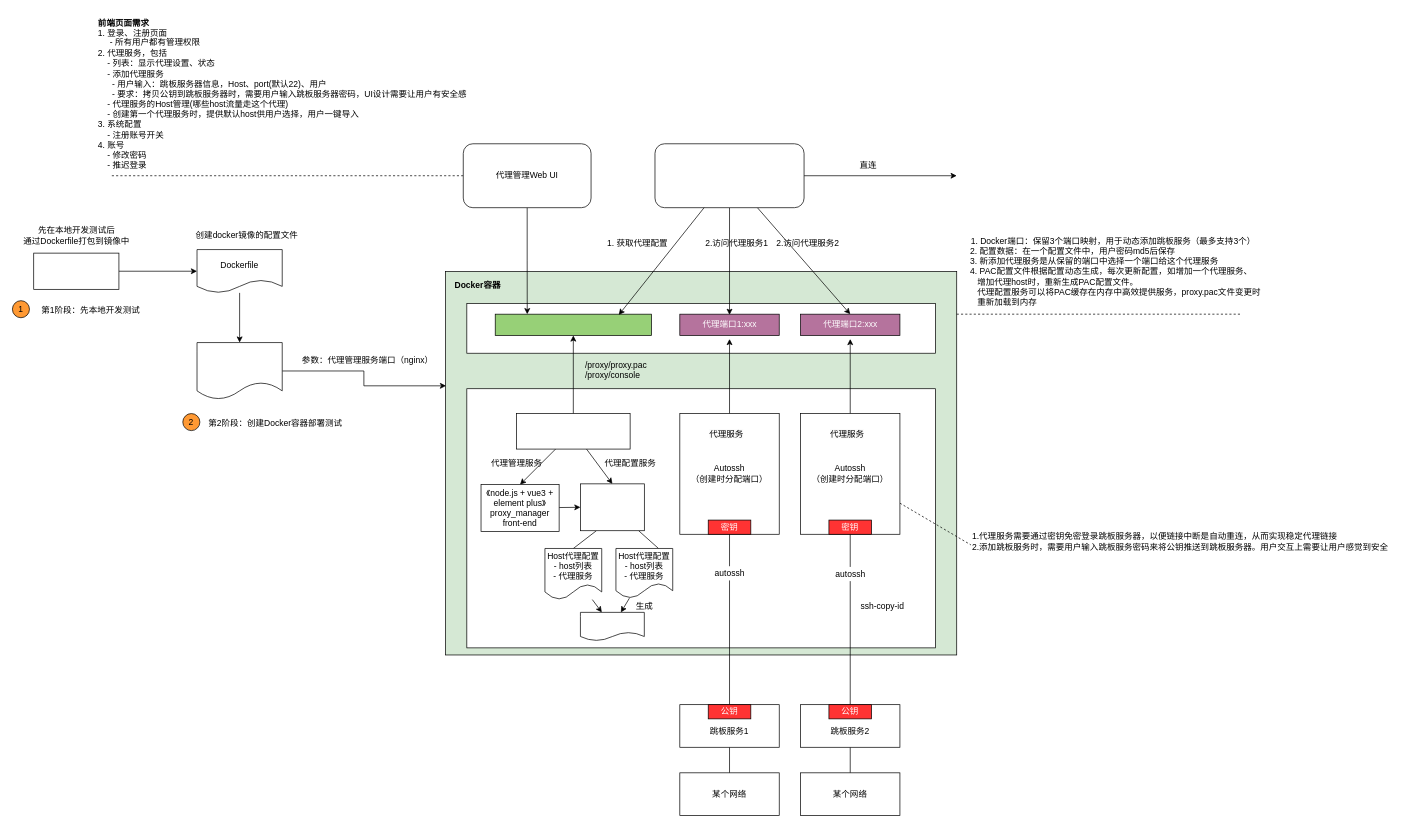
Image size: 1401x828. Some labels were removed from this diagram. Each missing label, with the box of its shape:
build.sh 创建docker 镜像、容器脚本: (196, 342, 282, 399)
Mac / Linux / Windows: (654, 143, 804, 208)
nginx: (516, 413, 630, 449)
proxy.pac: (580, 612, 644, 641)
proxy_manager server/frond-end server/back-end: (33, 252, 119, 289)
《node.js》 proxy_manager back-end: (580, 483, 644, 531)
代理服务端口:80: (495, 313, 651, 335)
